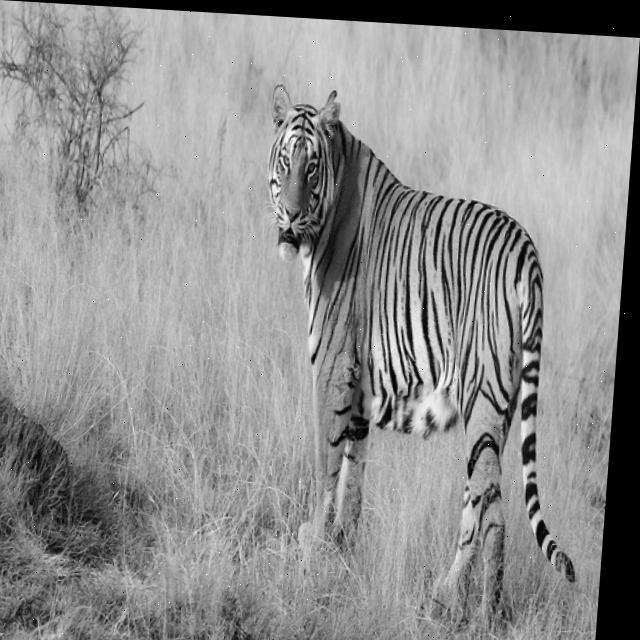Buffalo: (0, 365, 164, 562)
Tiger: (230, 83, 611, 639)
